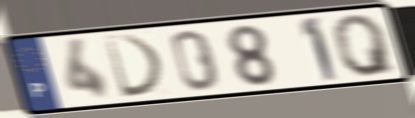0: (170, 27, 221, 94)
1: (297, 16, 341, 84)
4: (63, 34, 113, 105)
8: (223, 22, 279, 88)
D: (101, 33, 168, 101)
Q: (329, 12, 400, 79)
